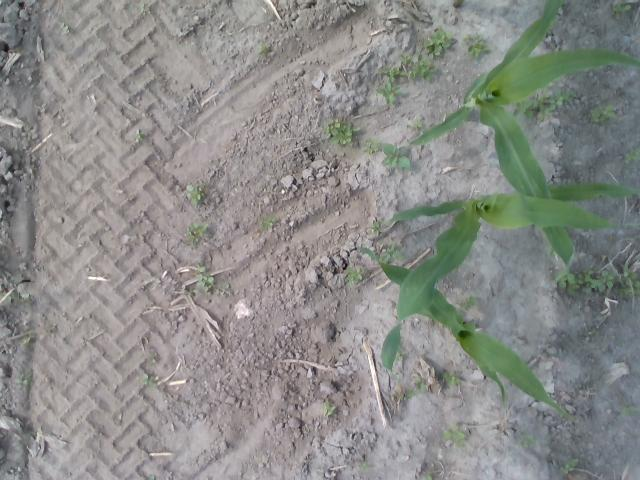Maize: (411, 0, 640, 266), (378, 184, 640, 379), (350, 244, 581, 428)
Weeds: (512, 89, 574, 123), (554, 268, 615, 294), (324, 118, 360, 146), (408, 54, 438, 82), (423, 29, 452, 56), (381, 143, 411, 168), (617, 268, 640, 299), (461, 33, 489, 58), (194, 262, 214, 292), (442, 424, 466, 448), (376, 82, 402, 104), (184, 222, 209, 244), (376, 66, 406, 84), (378, 244, 404, 263), (588, 104, 614, 123), (185, 182, 205, 206), (4, 291, 31, 308), (612, 1, 632, 19), (441, 370, 461, 388), (346, 266, 365, 284), (406, 118, 424, 136), (458, 296, 478, 312), (414, 373, 428, 395), (361, 138, 380, 154), (15, 371, 32, 388), (258, 215, 276, 231), (560, 458, 578, 474), (322, 400, 337, 417), (625, 146, 640, 163), (215, 283, 230, 299), (518, 432, 534, 446), (620, 402, 638, 414), (396, 388, 414, 400), (392, 348, 407, 362), (142, 374, 156, 387), (399, 52, 412, 66), (257, 42, 269, 57), (370, 220, 380, 236), (22, 334, 35, 346), (134, 128, 145, 142), (360, 461, 372, 472), (139, 1, 146, 14), (184, 288, 199, 294), (587, 327, 596, 335), (62, 26, 70, 34), (424, 475, 432, 480)
